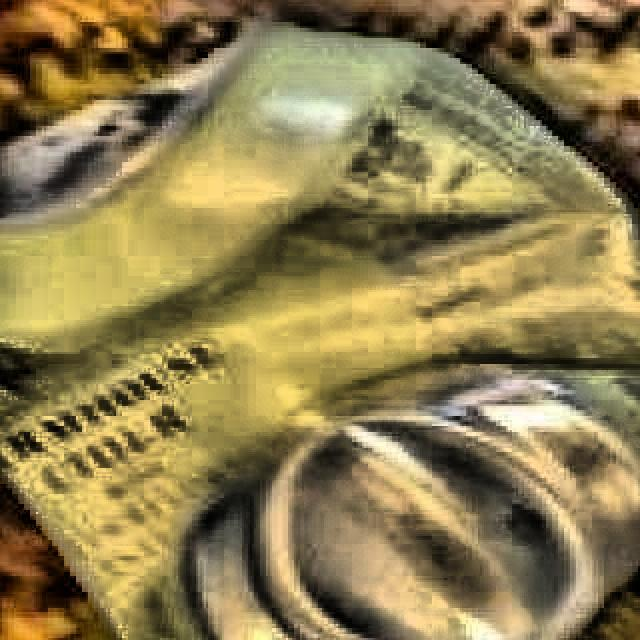metal: (0, 16, 640, 640)
